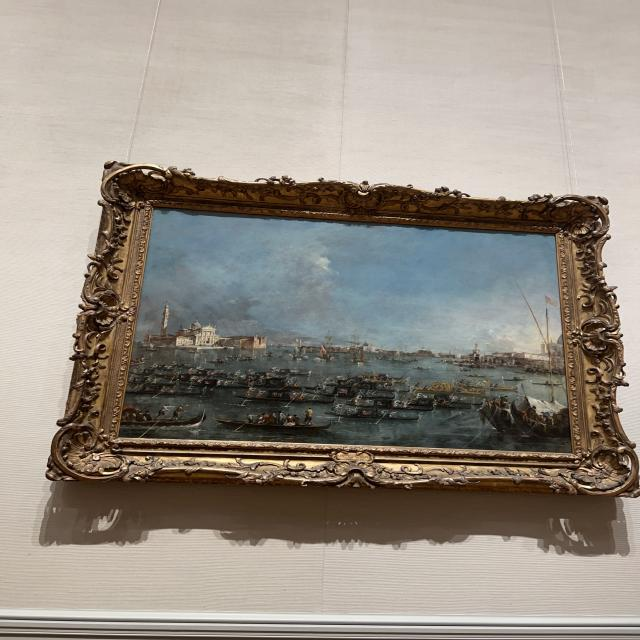ships: (117, 207, 573, 455)
